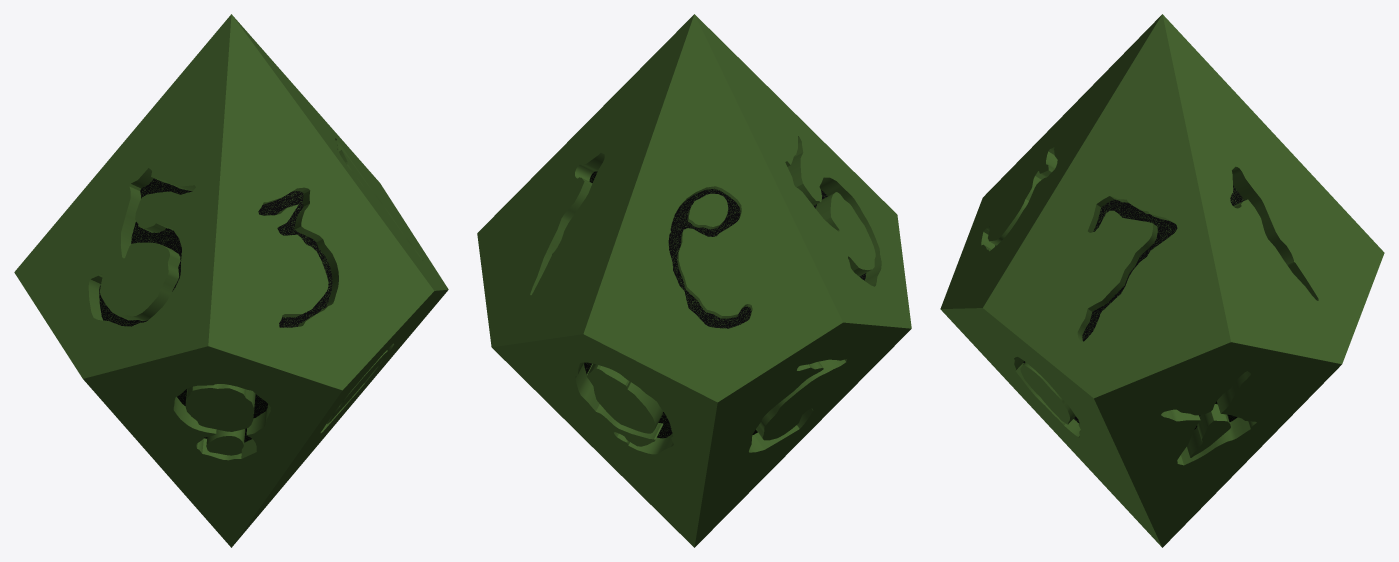
Rendered from dice_10.dae.
The picture shows the model from 3 angles, left to right: view 1: azimuth 30°, elevation 25°; view 2: azimuth 150°, elevation 25°; view 3: azimuth 270°, elevation 25°; orthographic projection.
Visible parts, largest first — view 1: group_0 (×8); view 2: group_0 (×9); view 3: group_0 (×8).
Boxes of the visible parts, x1,y1,x2,y2 form: group_0 (×8): (14, 14, 448, 547); group_0 (×9): (477, 14, 911, 547); group_0 (×8): (940, 14, 1384, 547).
Bounding box in the file's own units: 150 × 157 × 209.
